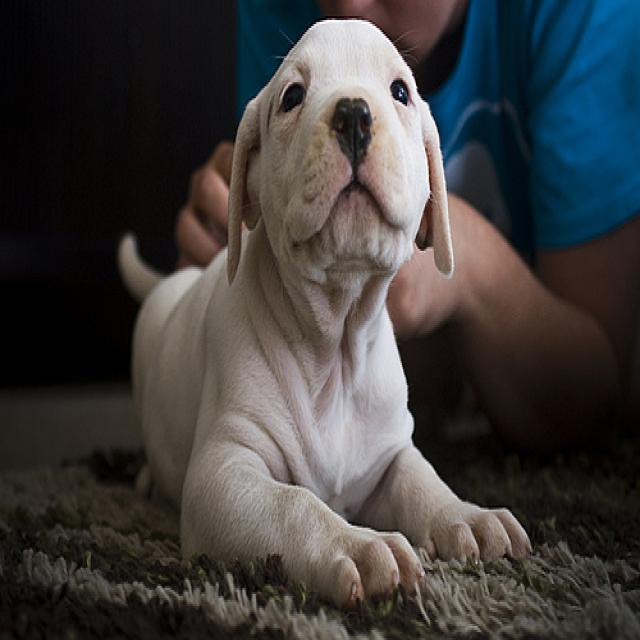dog-american_bulldog: (102, 4, 538, 614)
